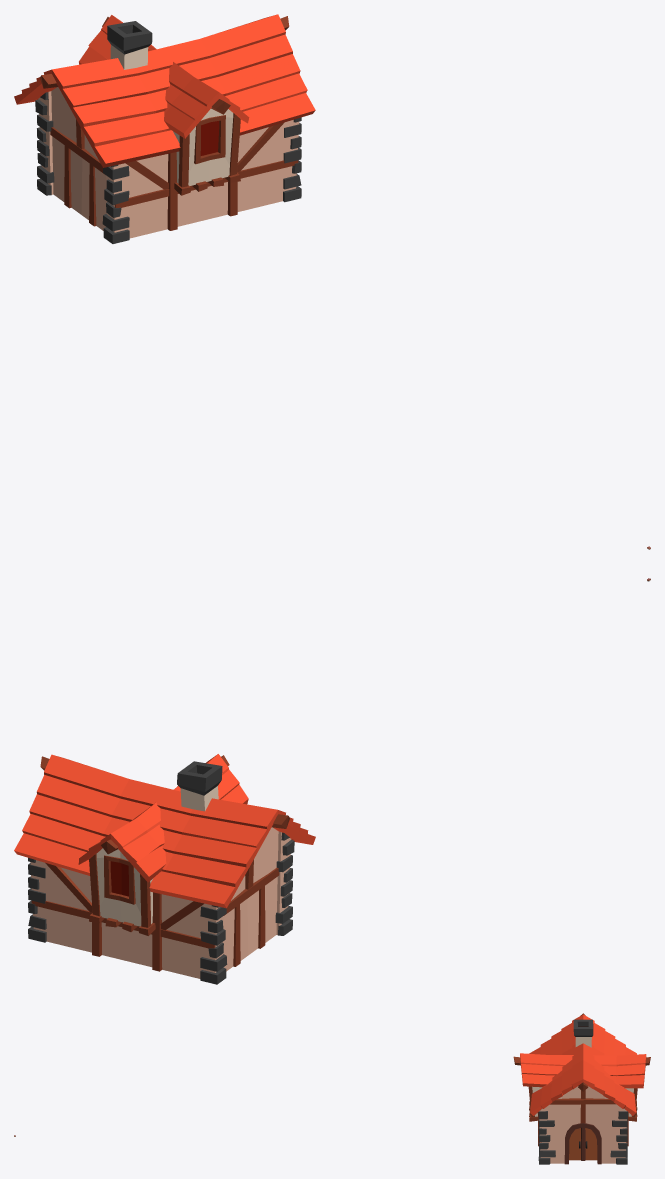
The model's file is House_3.glb.
3 views of the same model, one above another, from view 1: azimuth 30°, elevation 25°; view 2: azimuth 150°, elevation 25°; view 3: azimuth 270°, elevation 25° (orthographic). The views are drawn at different scales.
Visible parts, largest first — view 1: Cube.046, Cube.001, Cube.004, Cube.009, Cube.047, Cube.003, Cube.007; view 2: Cube.046, Cube.001, Cube.004, Cube.009, Cube.047, Cube.003, Cube.007; view 3: Cube.046, Cube.001, Cube.047, Cube.009, Cube.004, Cube.007, Cube.002.
Boxes of the visible parts, x1,y1,x2,y2 form: Cube.046: (14,14,315,167); Cube.001: (38,87,299,238); Cube.004: (64,108,240,226); Cube.009: (35,92,301,243); Cube.047: (79,15,249,138); Cube.003: (37,99,298,230); Cube.007: (107,21,152,69); Cube.046: (14,754,315,908); Cube.001: (30,827,291,978); Cube.004: (89,848,265,966); Cube.009: (28,832,294,984); Cube.047: (78,754,248,882); Cube.003: (31,839,292,971); Cube.007: (177,761,222,811); Cube.046: (529,1014,636,1160); Cube.001: (539,1086,626,1163); Cube.047: (520,1053,646,1088); Cube.009: (538,1110,627,1164); Cube.004: (528,1086,637,1160); Cube.007: (573,1019,593,1047); Cube.002: (564,1123,601,1164).
Size of what is drawn, in the model's own units: 588 by 399 by 2242.
1 material, 1 textured.
